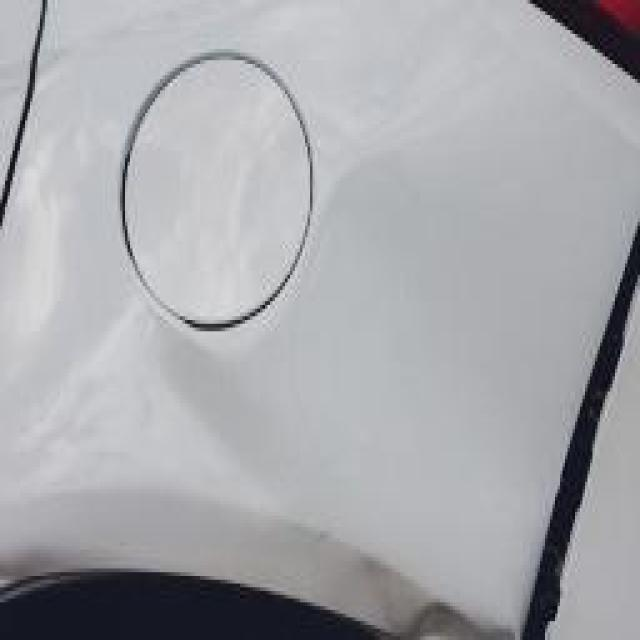Bumper: (552, 241, 638, 640)
Fender: (390, 584, 522, 640)
